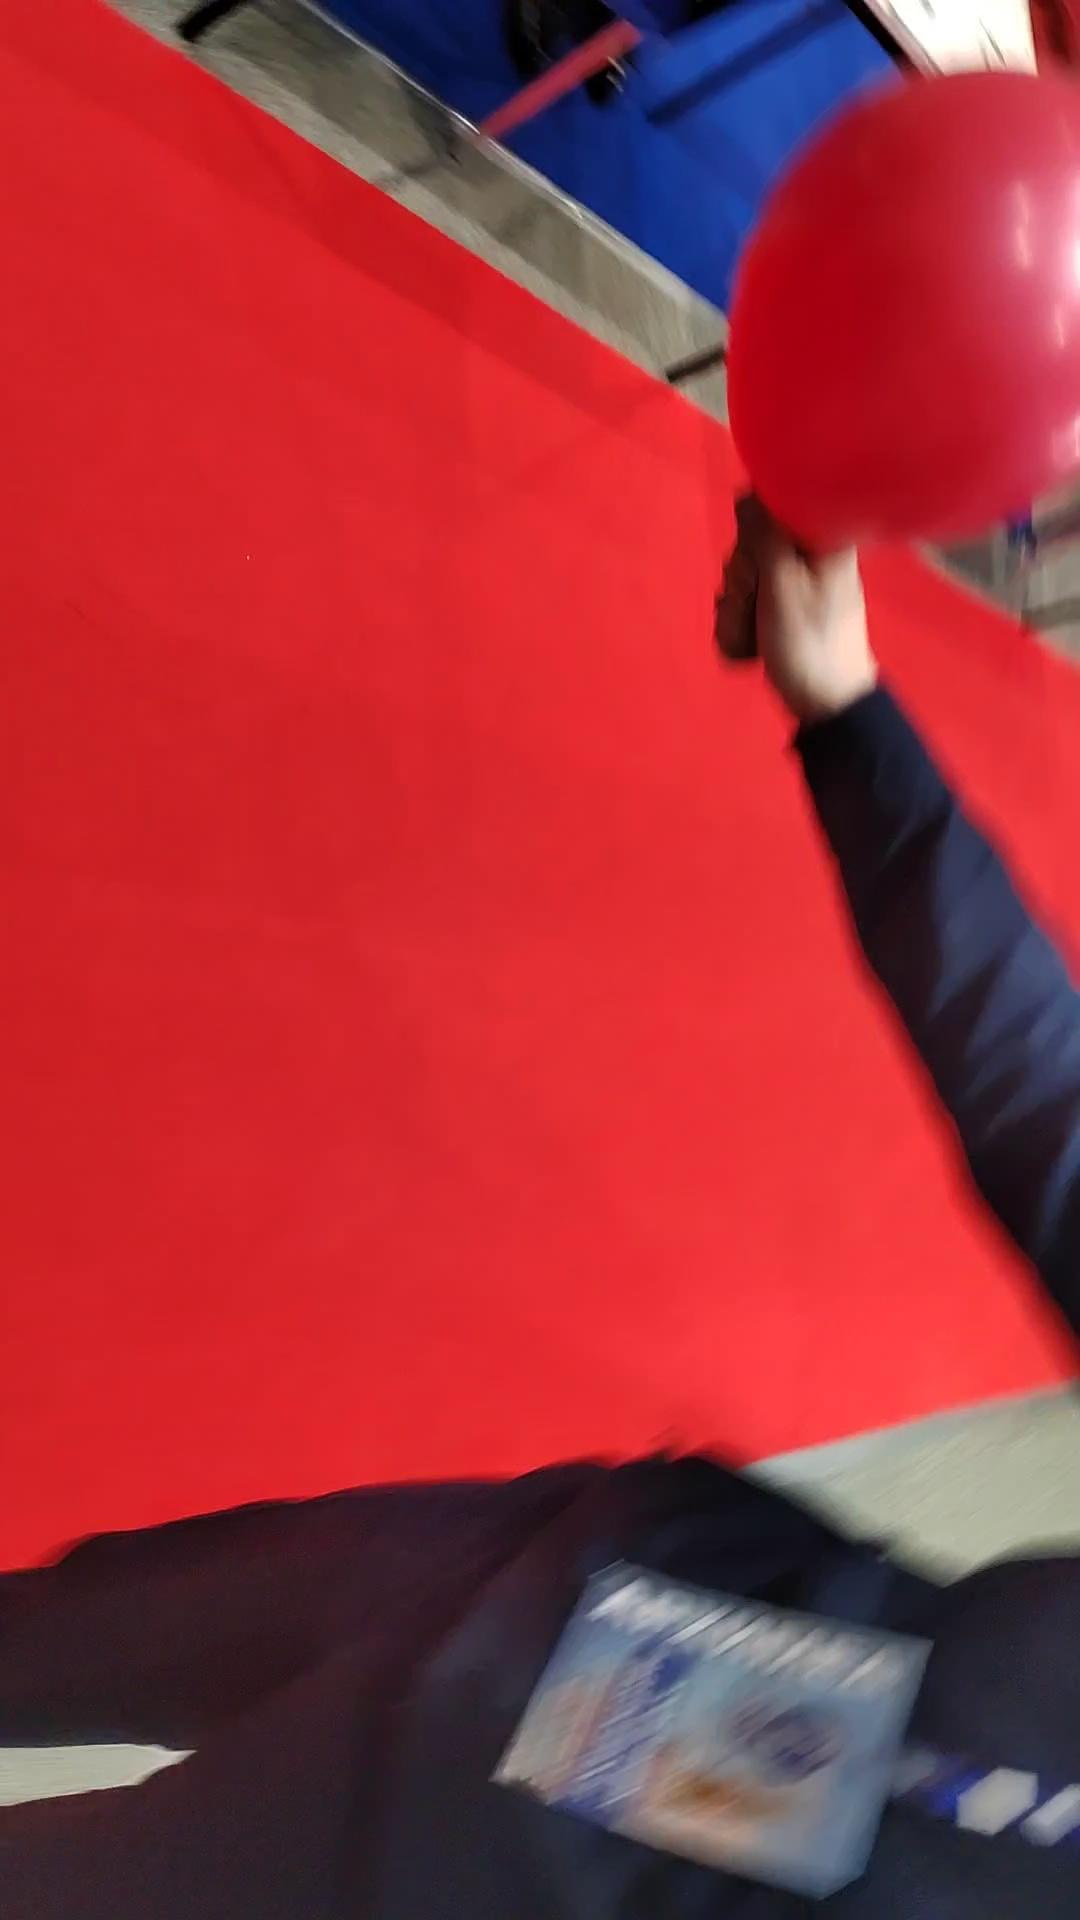red: (720, 65, 1080, 564)
